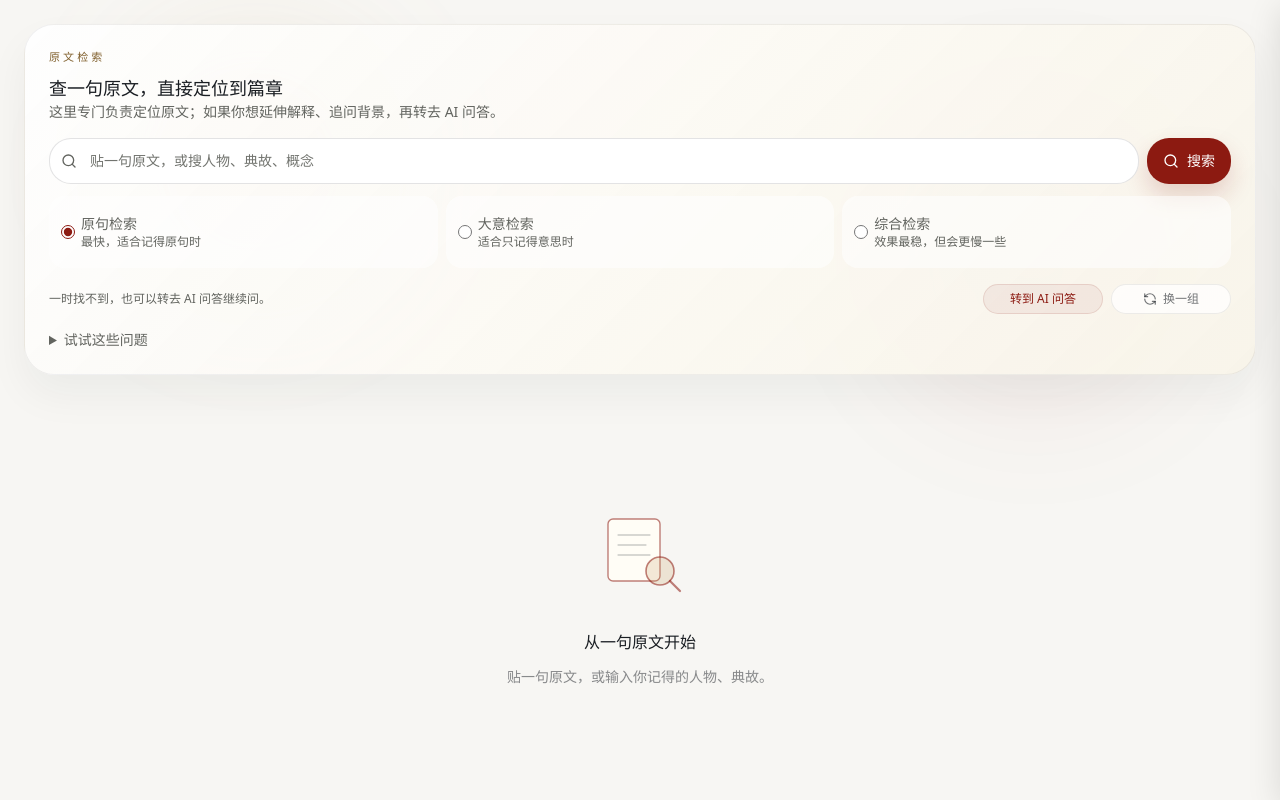
Test case: SearchPanel › shows error message when search fails
The image size is (1280, 800).
Type "逍遥游" into the field with placeholder "贴一句原文，或搜人物、典故、概念" at (594, 160), box 49,138 -> 1139,184
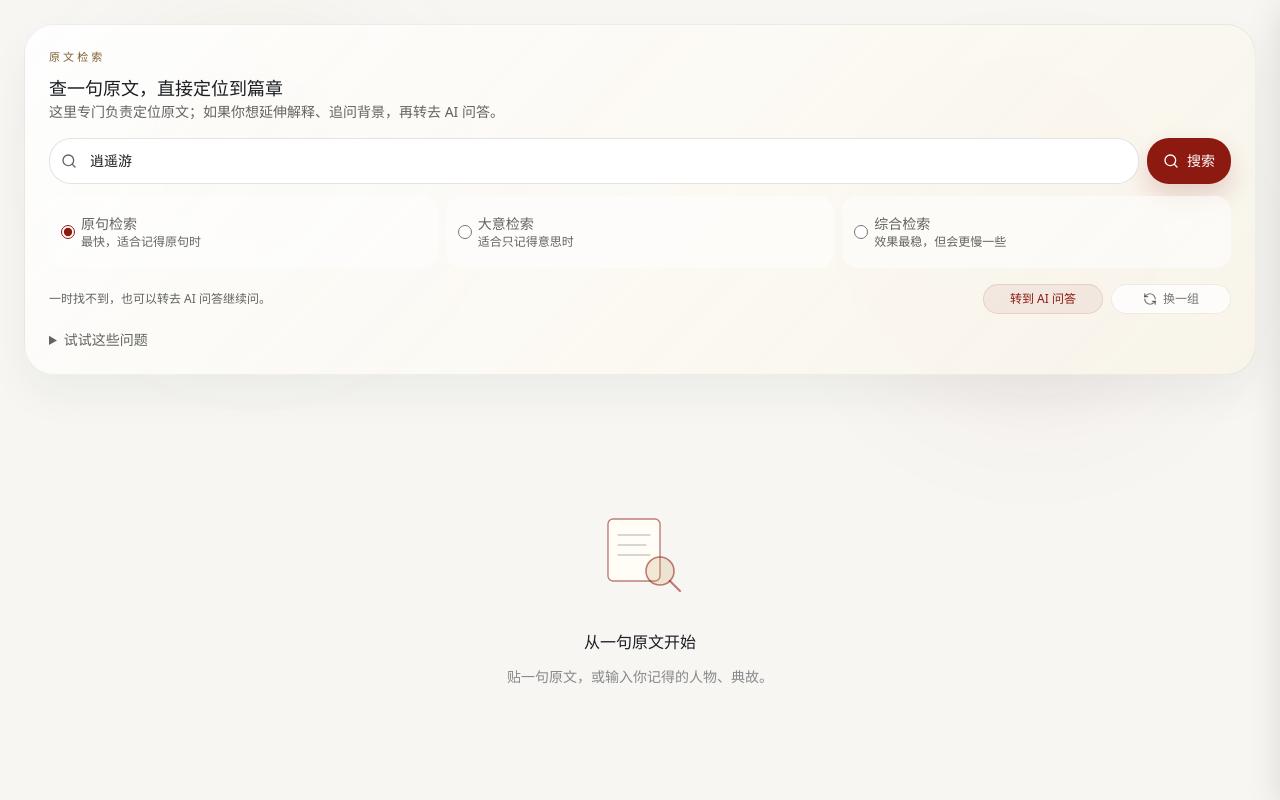
Click the button "搜索" at (1189, 160), box 1147,138 -> 1231,184
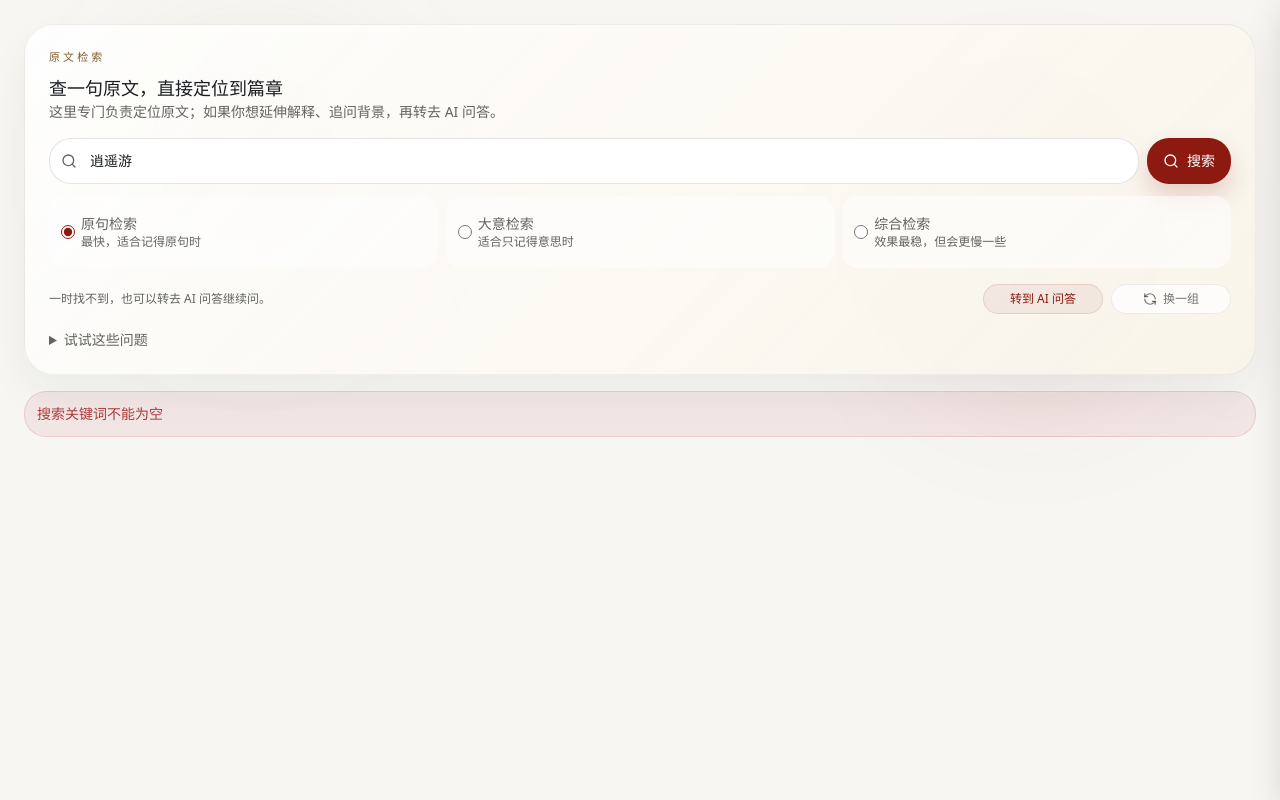
Result: the text "搜索关键词不能为空" is shown at 37,404 -> 163,422
